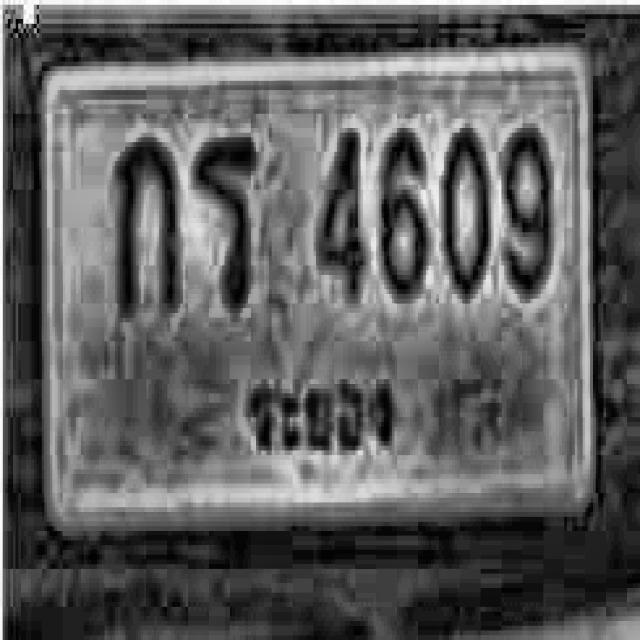license-plate: (37, 40, 607, 563)
